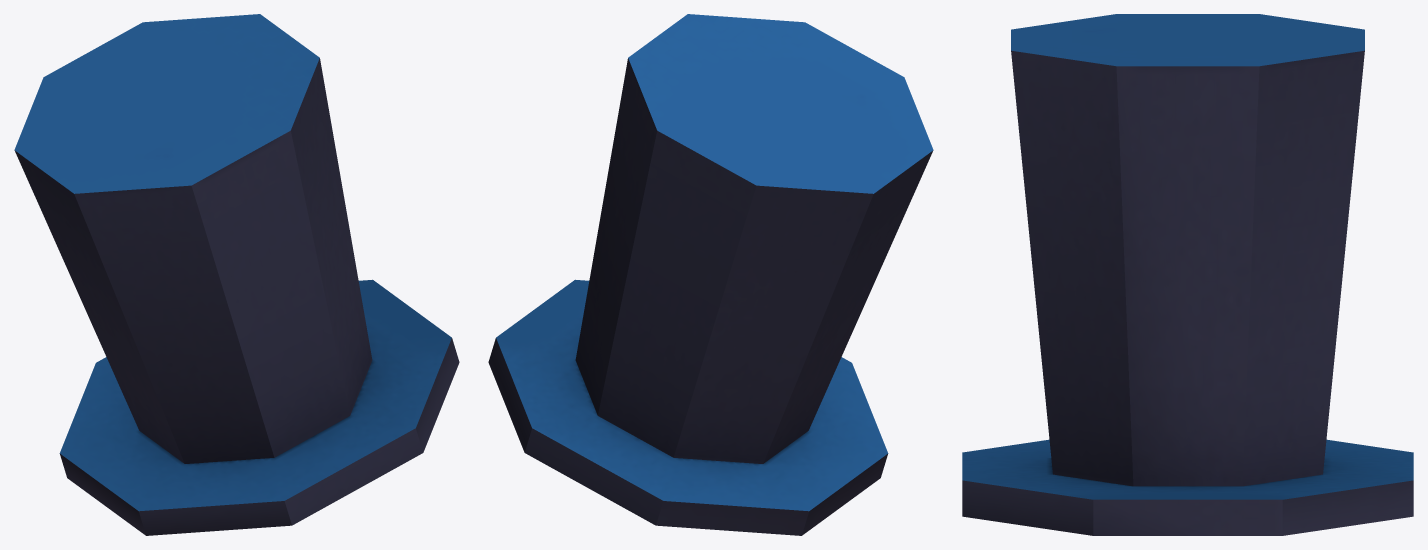
File: Hat4.FBX
3 renders of one model, left to right at view 1: azimuth 30°, elevation 25°; view 2: azimuth 150°, elevation 25°; view 3: azimuth 270°, elevation 25°, orthographic. The views are drawn at different scales.
Parts seen in each view (by area): view 1: Hat4; view 2: Hat4; view 3: Hat4.
Boxes of the visible parts, x1=… form: Hat4: x1=14, y1=14, x2=459, y2=535; Hat4: x1=488, y1=14, x2=933, y2=535; Hat4: x1=962, y1=14, x2=1413, y2=535.
Bounding box in the file's own units: 173 × 151 × 188.
Materials: 1 (1 with a texture image).
